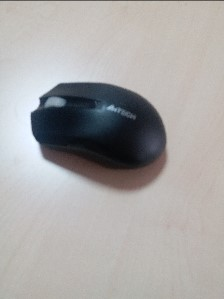mouse: (29, 81, 169, 175)
